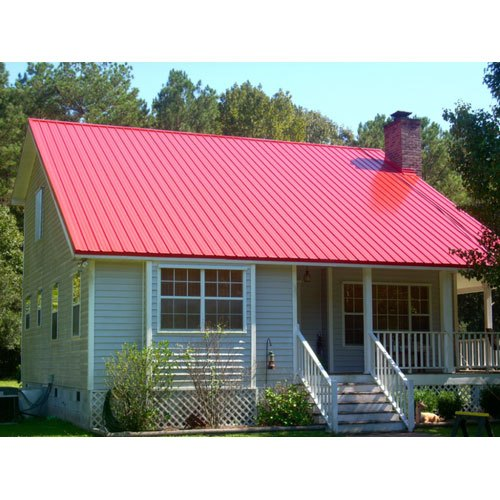Tin-shade House: (6, 102, 488, 406)
